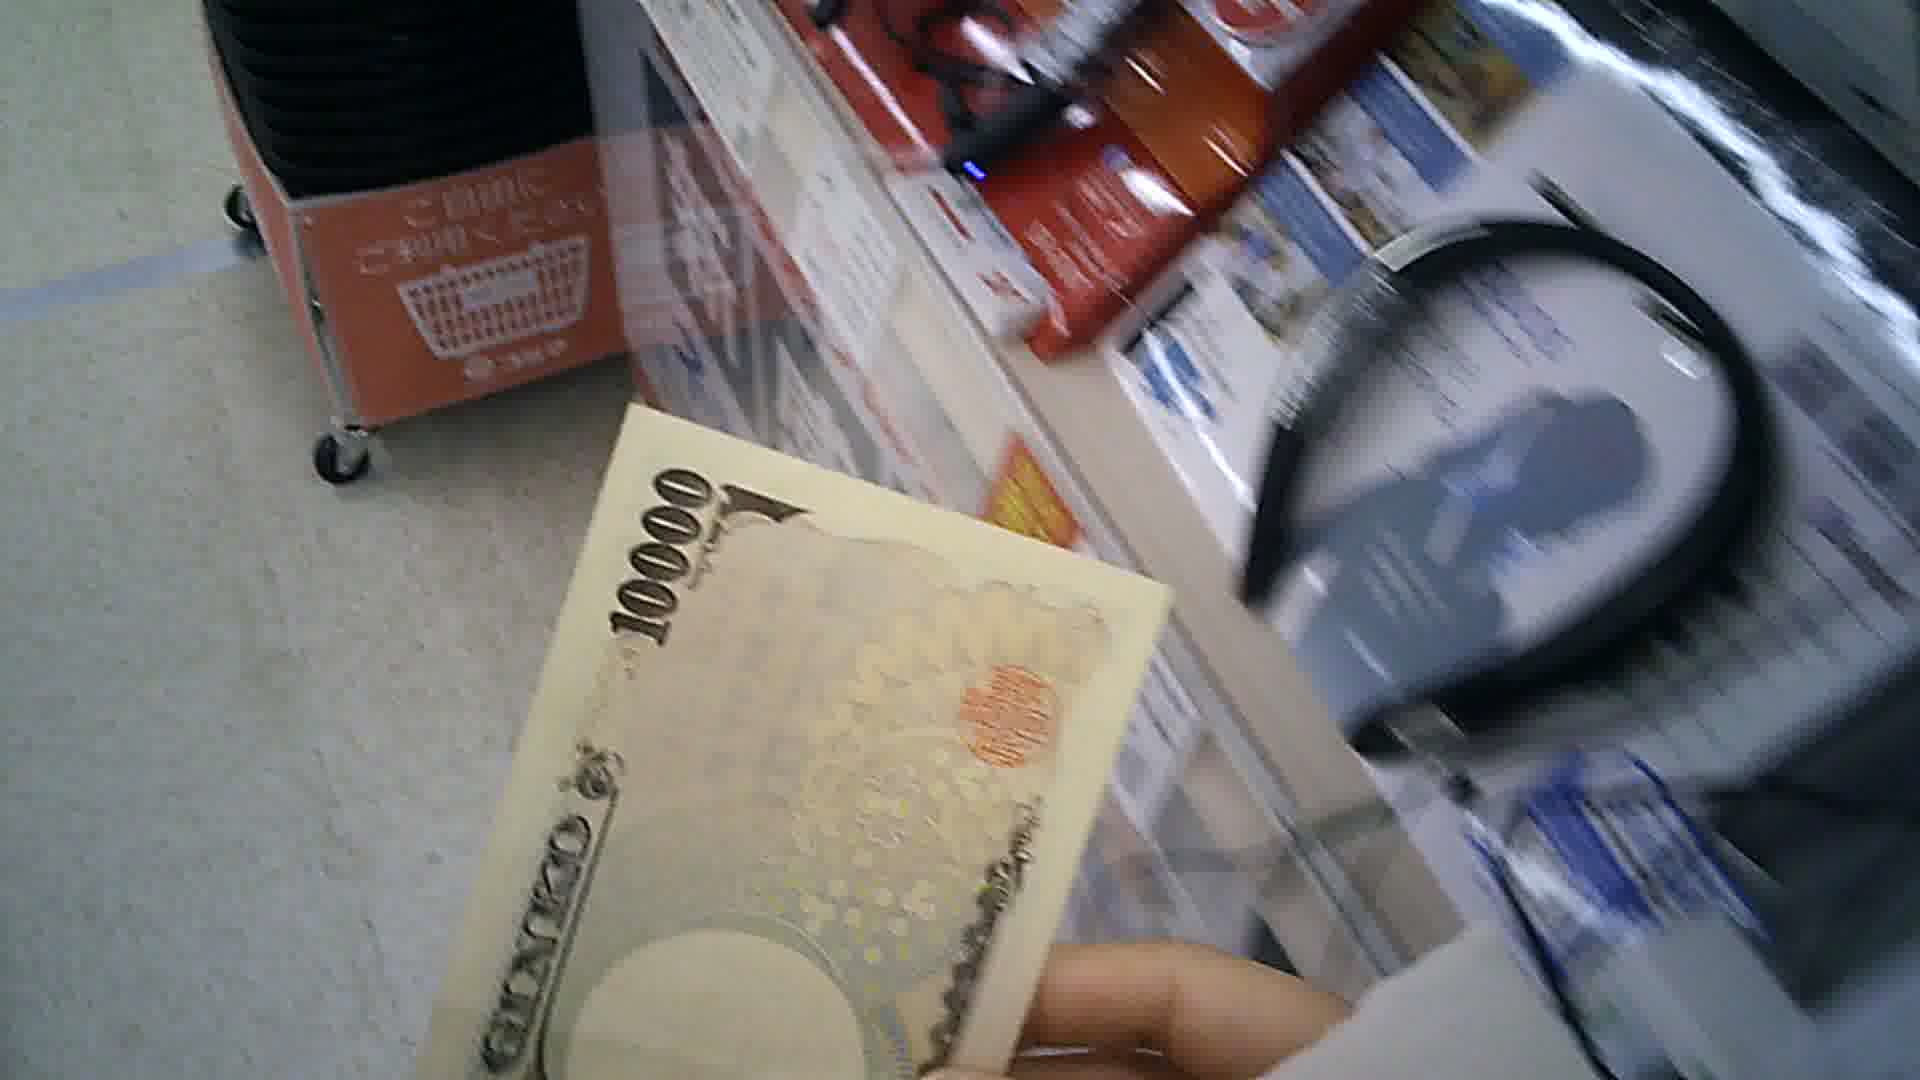10,000 Yen: (414, 410, 1179, 1079)
